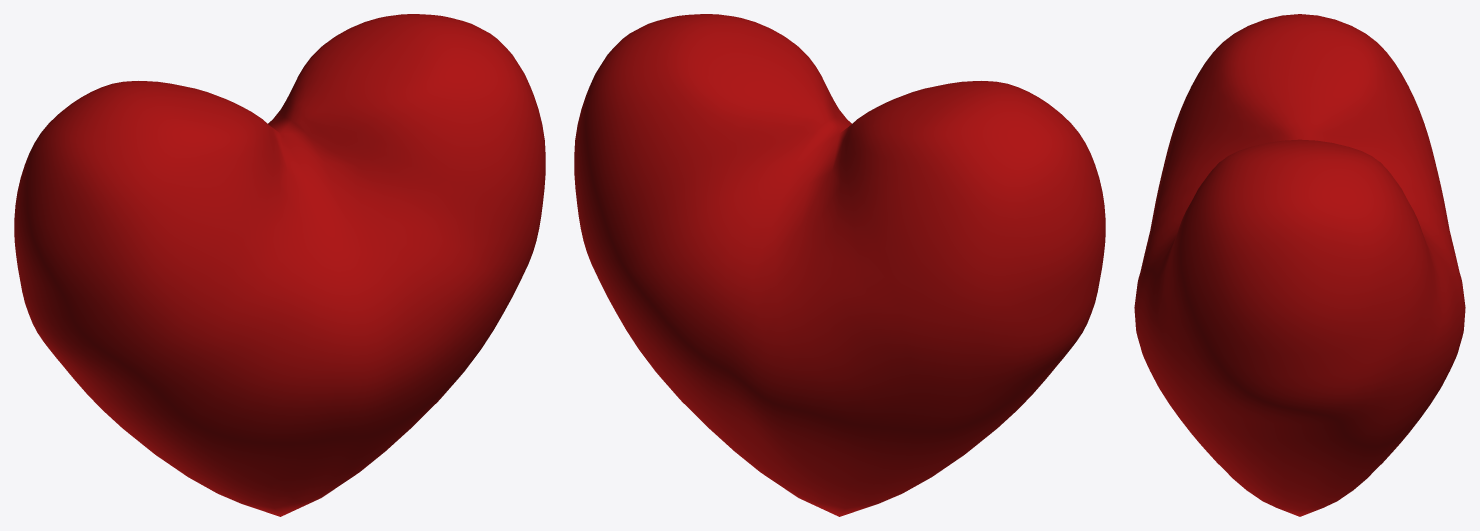
File: Heart.fbx
3 views of the same model, side by side, from view 1: azimuth 30°, elevation 25°; view 2: azimuth 150°, elevation 25°; view 3: azimuth 270°, elevation 25° (orthographic). The views are drawn at different scales.
Visible parts, largest first — view 1: Heart; view 2: Heart; view 3: Heart.
Boxes of the visible parts, left/top/right/bottom form: Heart: left=14, top=14, right=545, bottom=516; Heart: left=574, top=14, right=1105, bottom=516; Heart: left=1134, top=14, right=1465, bottom=516.
Bounding box in the file's own units: 1.97 × 1.73 × 1.21.
